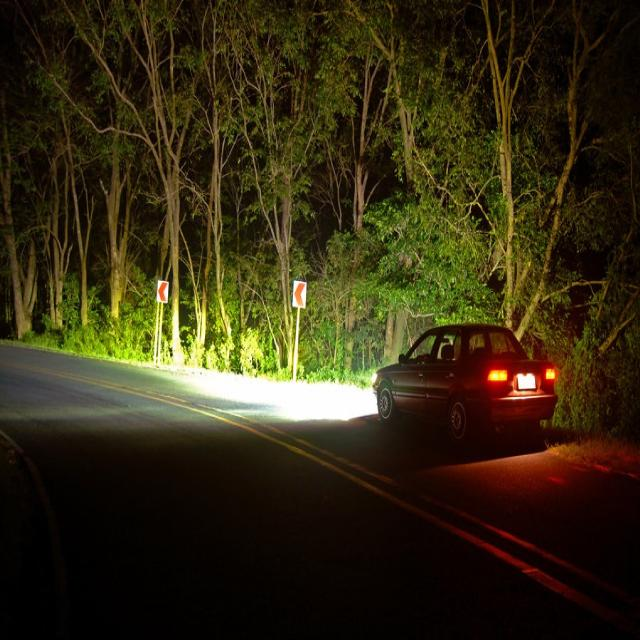car: (369, 321, 562, 451)
